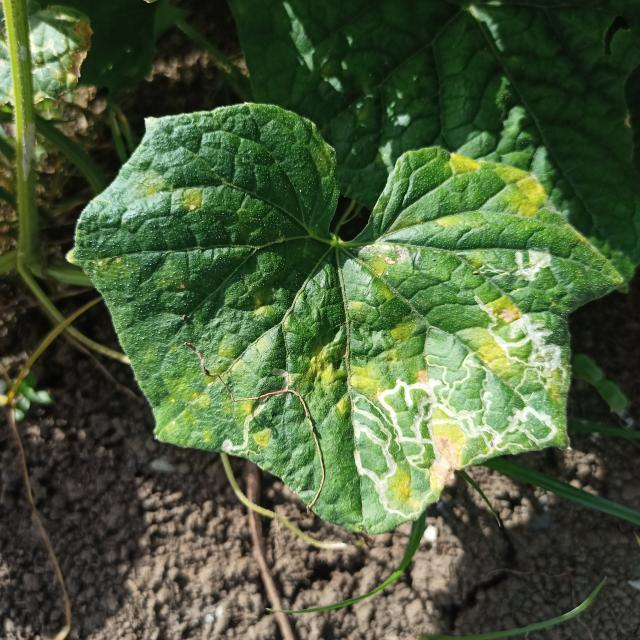disease_cucumber: (306, 238, 568, 509), (176, 304, 308, 456), (434, 151, 550, 232), (132, 174, 212, 218)
